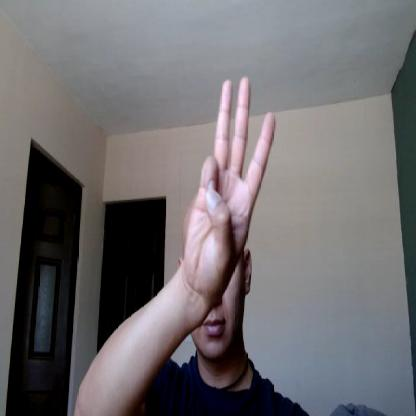W: (188, 74, 276, 294)
